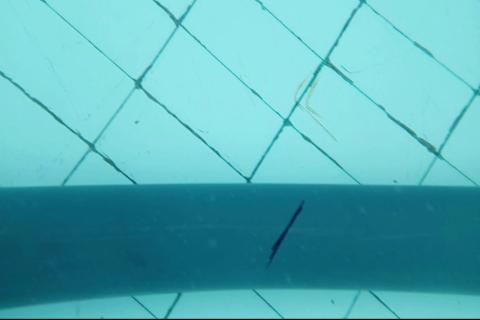keretakan: (267, 200, 304, 269)
